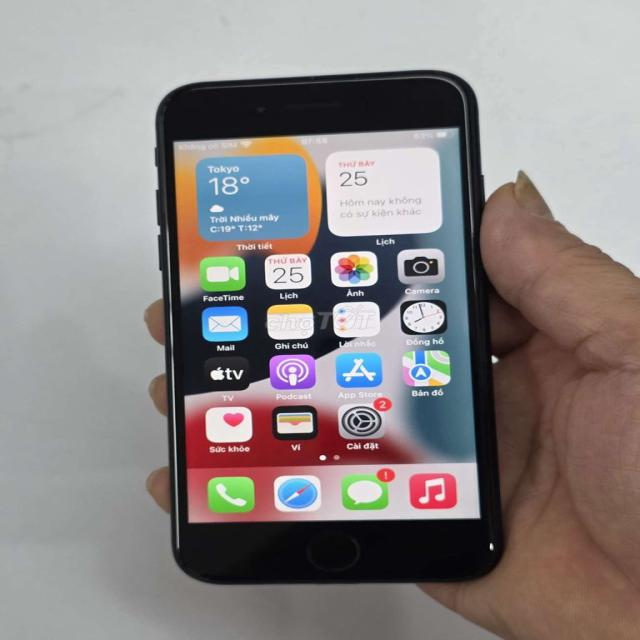gen_7_8: (140, 68, 515, 582)
scratch: (157, 180, 184, 552)
screen_defect: (486, 542, 498, 551)
